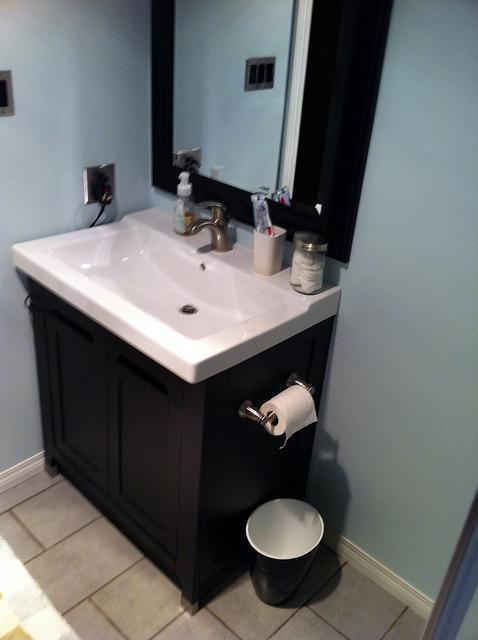Bote de Basura: (236, 499, 324, 604)
Lavamanos: (31, 204, 306, 361)
